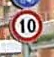limite 10: (9, 9, 43, 42)
